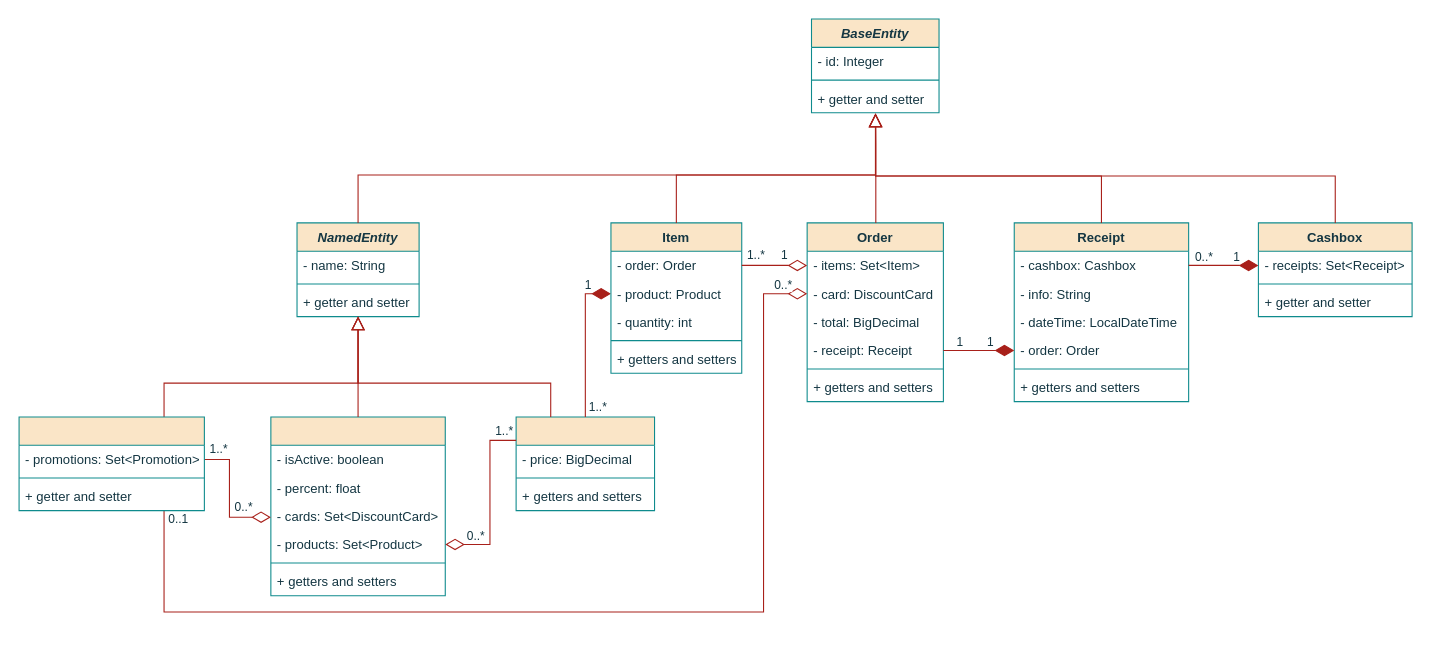
Some shapes in this 1431 by 650 pixel diagram are drawn without their labels. The box of each missing label's shape, as (x1, y1, x2, y2) in pixels:
DiscountCard: (18, 416, 204, 511)
Product: (515, 416, 655, 511)
Promotion: (270, 416, 445, 596)
